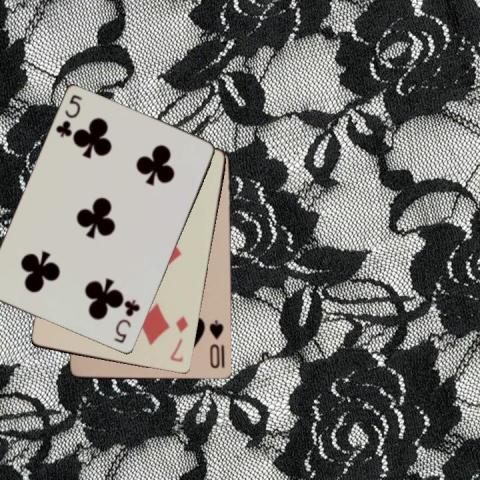10s: (207, 318, 225, 370)
5c: (111, 297, 142, 345), (53, 92, 83, 139)
7d: (167, 313, 190, 364)
